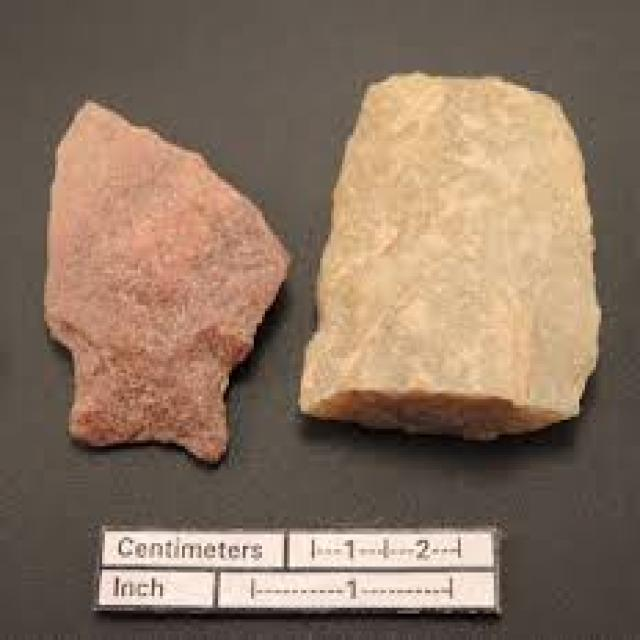Metamorphic: (303, 59, 607, 446), (42, 85, 270, 470)
